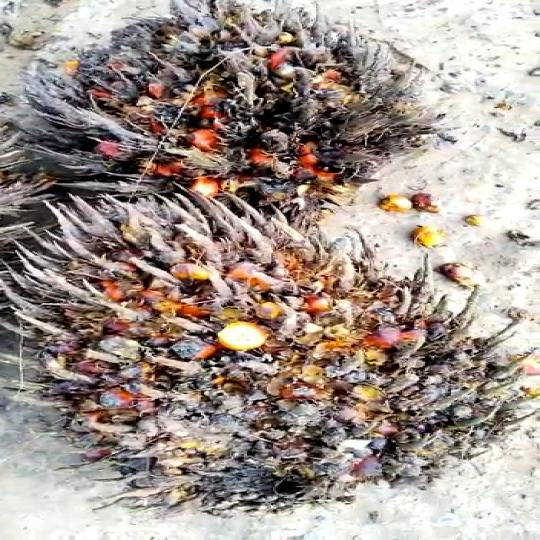terlalu masak: (0, 192, 540, 508), (0, 0, 446, 222)
